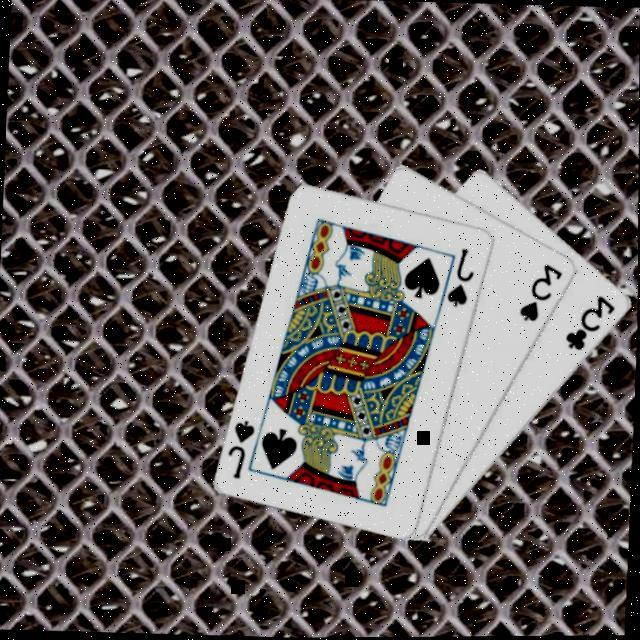3C: (564, 291, 620, 355)
3S: (518, 261, 568, 327)
JS: (446, 245, 480, 310), (227, 417, 261, 482)
